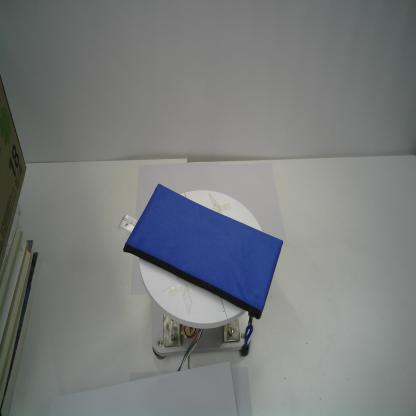Stationery: (116, 182, 284, 360)
